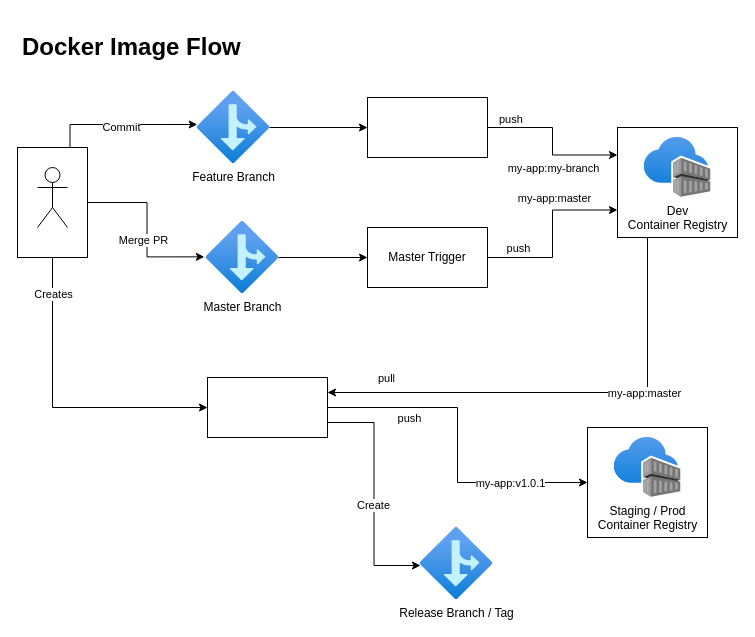
The diagram is 755 pixels wide and 637 high, and some of its shapes have lost their labels. The shapes that lost their labels are listed below. From the top down, each one's centre as x and y in pixels, then its label:
point (427, 127): PR Trigger
point (52, 197): Developer
point (267, 407): Release Build
